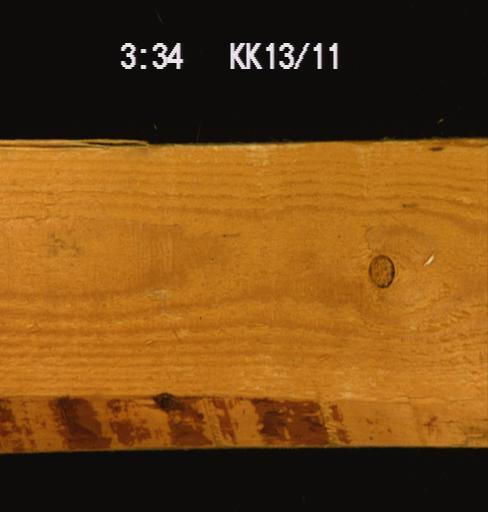dry_knot: (365, 252, 394, 288)
wave: (0, 387, 487, 449), (418, 137, 487, 157)
